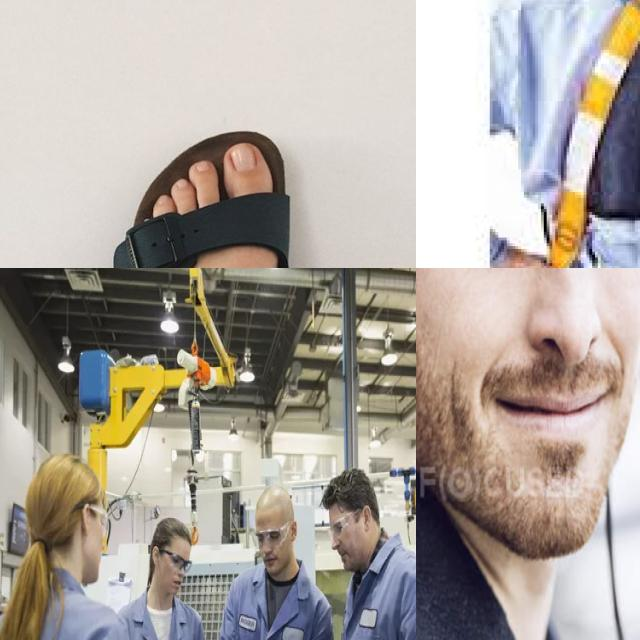Ear-protection: (416, 268, 640, 558)
Harness: (489, 0, 640, 268)
No_Ear-Protection: (82, 503, 89, 534), (363, 506, 371, 532), (152, 546, 160, 566), (291, 521, 298, 541)
Sandals: (102, 120, 300, 268)
face_nomask: (331, 511, 370, 573), (260, 532, 295, 573), (158, 554, 184, 599)
glasses: (252, 522, 291, 550), (159, 546, 191, 575), (331, 510, 360, 538), (89, 503, 109, 537), (72, 503, 84, 513)
head_nohelmet: (25, 455, 104, 553), (321, 468, 380, 524), (148, 516, 191, 587), (258, 485, 294, 520)
